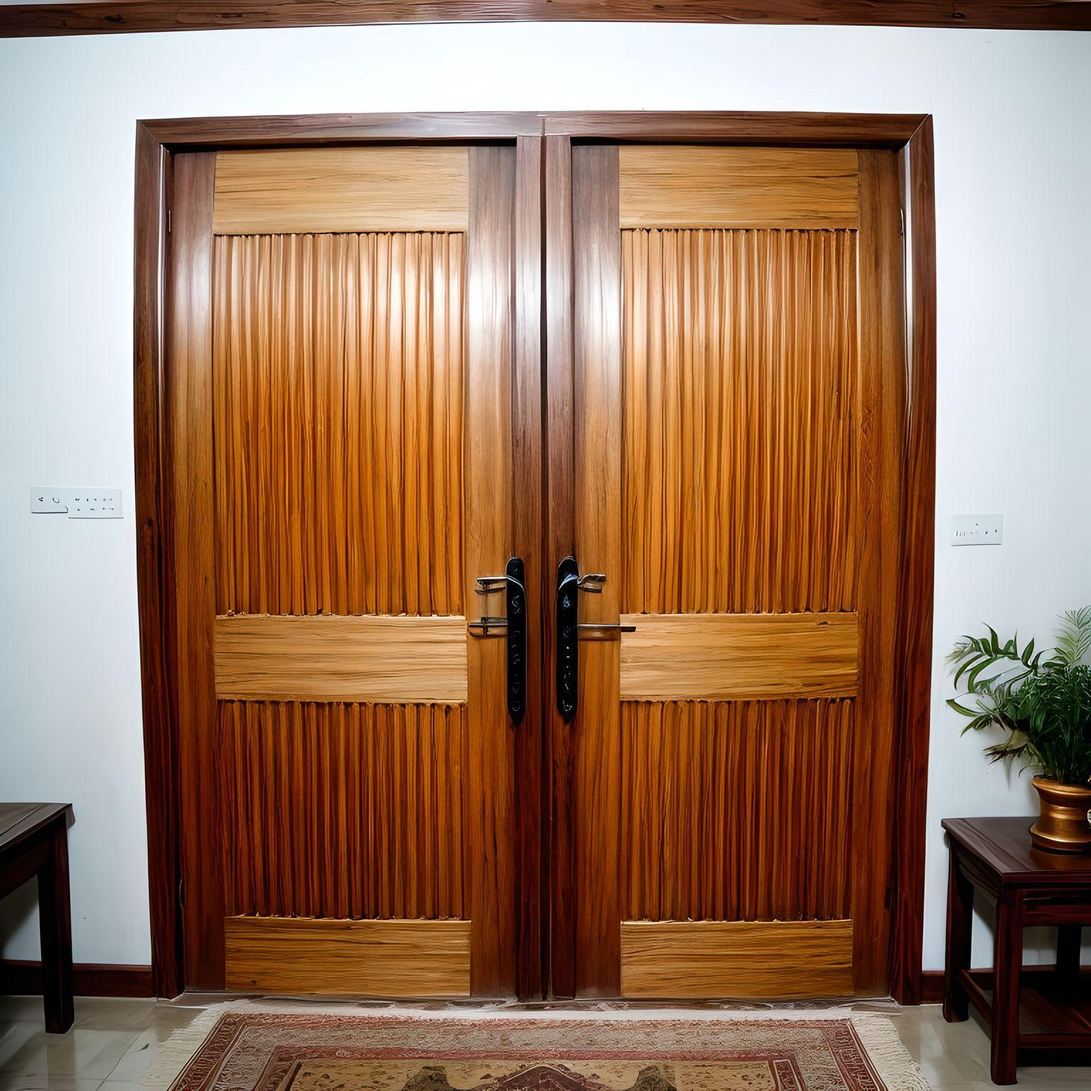door: (545, 125, 912, 1008), (170, 152, 549, 999)
switchboard: (939, 491, 1011, 568), (24, 476, 130, 528)
table: (947, 812, 1091, 1084), (0, 796, 83, 1035)
